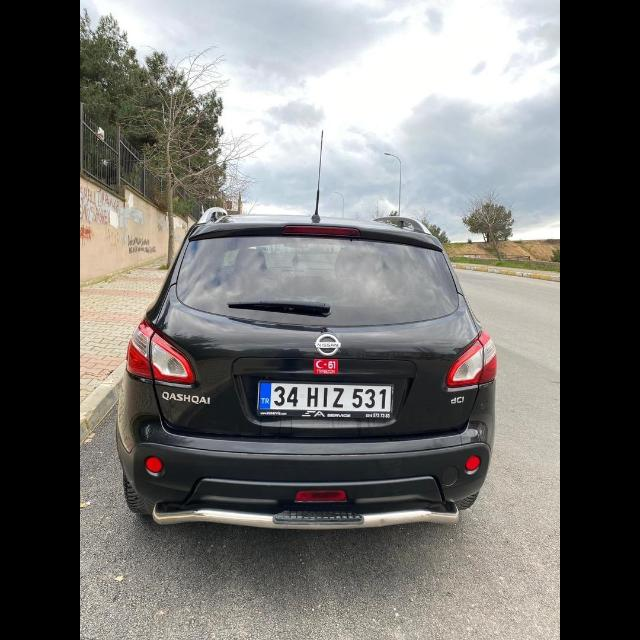Plaka: (260, 382, 392, 412)
